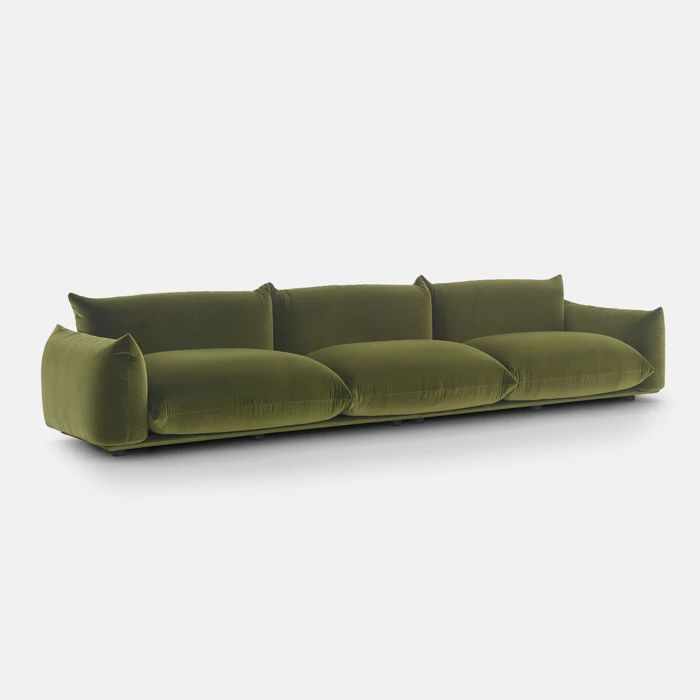3seatersofa: (43, 276, 663, 446)
backrest: (69, 276, 568, 354)
base: (93, 390, 641, 451)
leftarmrest: (565, 301, 664, 392)
leg: (162, 373, 591, 428), (111, 450, 125, 456), (625, 396, 635, 400)
rightarmrest: (42, 325, 147, 447)
seat: (147, 331, 652, 434)
